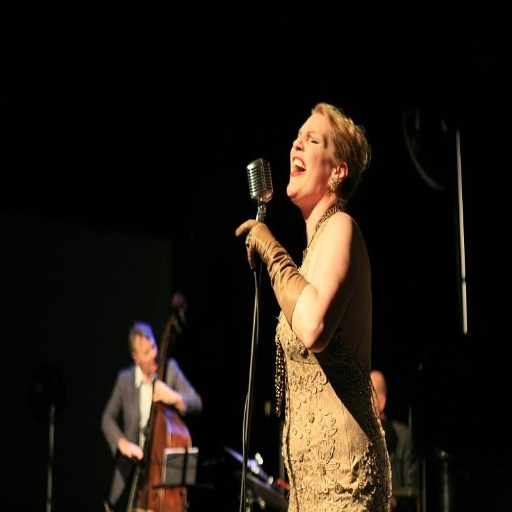hand: (233, 217, 276, 273), (151, 377, 177, 409), (118, 438, 144, 463)
